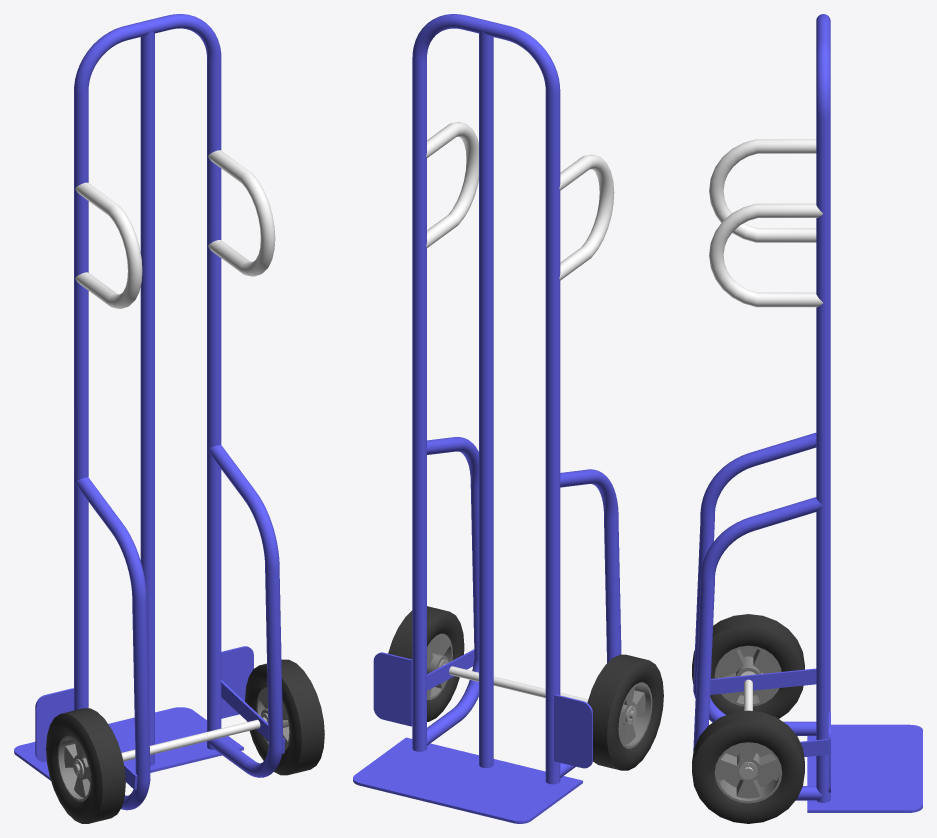
The model's file is Dolly.fbx.
3 renders of one model, left to right at view 1: azimuth 30°, elevation 25°; view 2: azimuth 150°, elevation 25°; view 3: azimuth 270°, elevation 25°, orthographic.
Parts seen in each view (by area): view 1: Hand_Truck1; view 2: Hand_Truck1; view 3: Hand_Truck1.
Part boxes in pixels (x1,y1,x2,y2): Hand_Truck1: (14,14,324,823); Hand_Truck1: (353,14,663,823); Hand_Truck1: (692,14,922,823).
Size of the model in its own units: 18.1 by 56.45 by 15.96.
